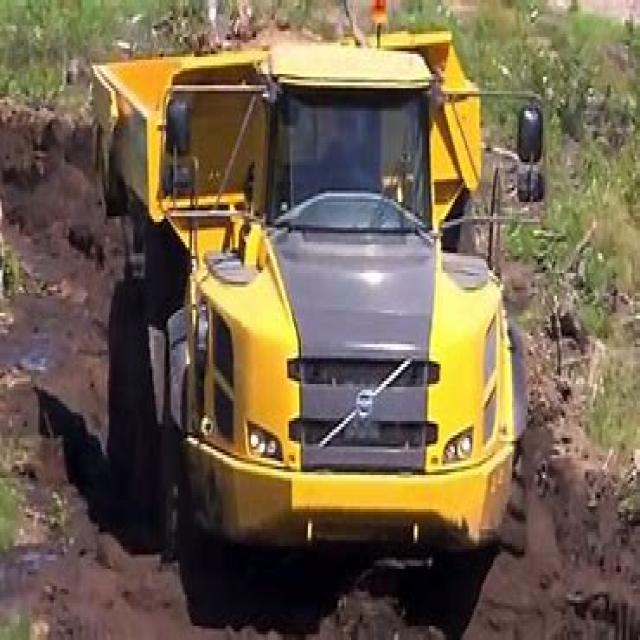dump_truck: (83, 28, 543, 594)
